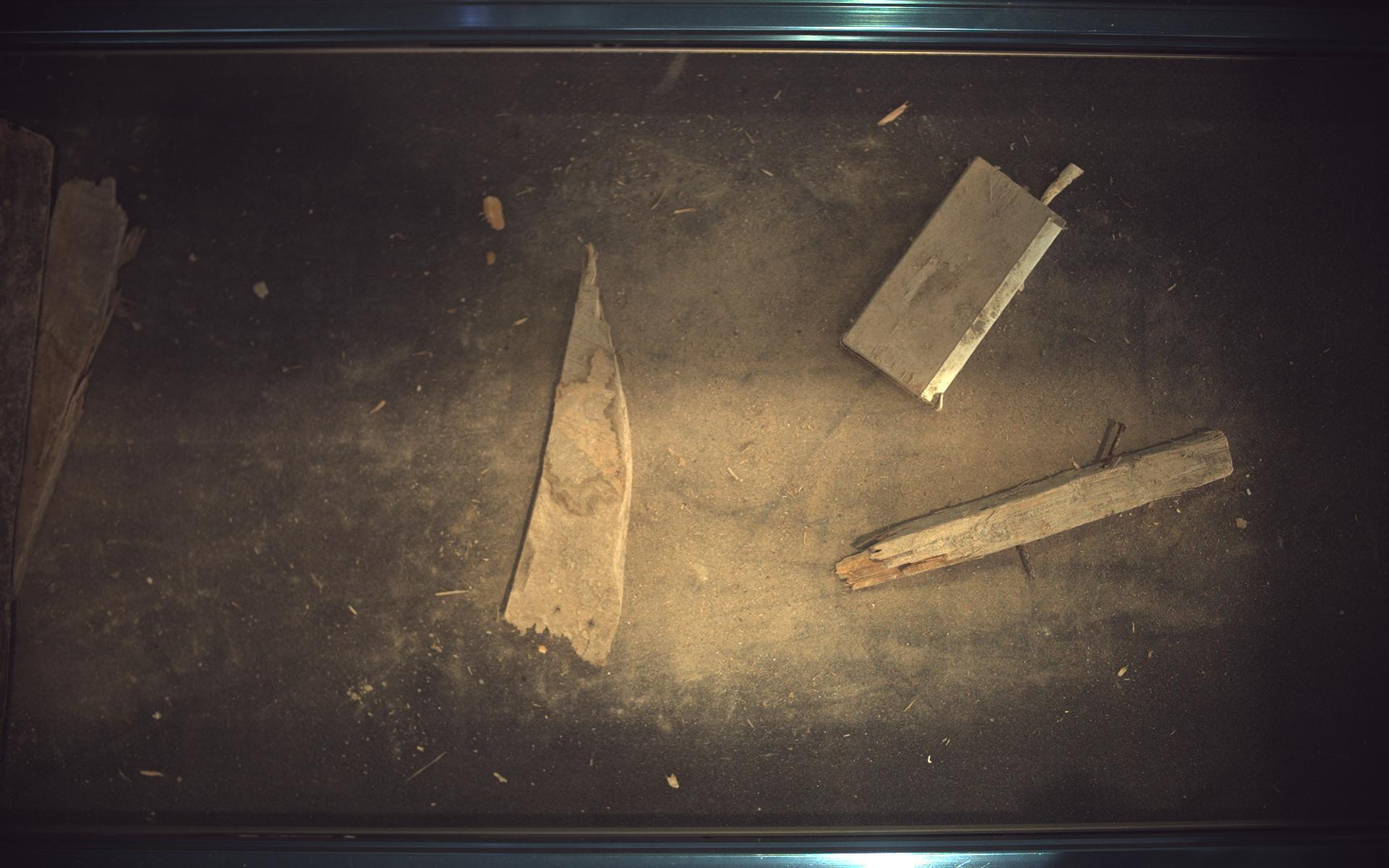wood: (837, 430, 1236, 591), (844, 156, 1084, 403), (504, 244, 633, 668)
